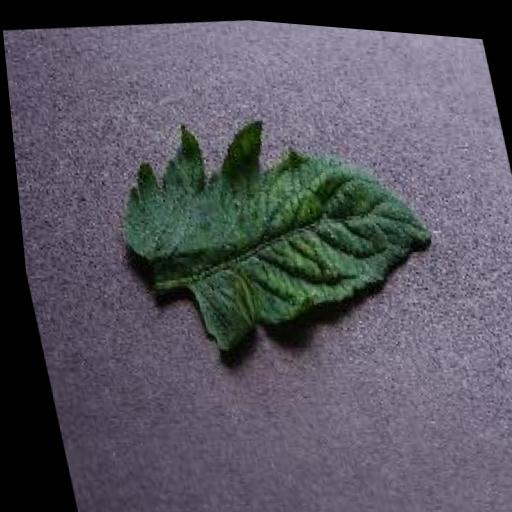Mosaic Virus: (98, 86, 457, 382)
